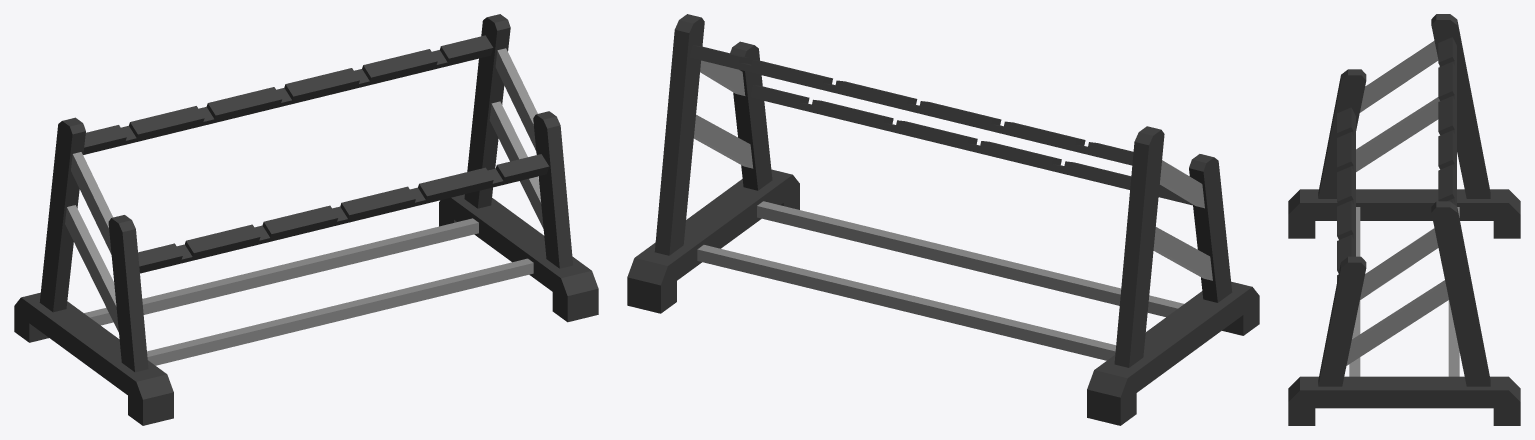
The model's file is barbell_stand_1.glb.
3 views of the same model, side by side, from view 1: azimuth 30°, elevation 25°; view 2: azimuth 150°, elevation 25°; view 3: azimuth 270°, elevation 25° (orthographic). The views are drawn at different scales.
Parts seen in each view (by area): view 1: Barbell_Stand_2; view 2: Barbell_Stand_2; view 3: Barbell_Stand_2.
Part boxes in pixels (<box>): Barbell_Stand_2: <box>14,14,598,425</box>; Barbell_Stand_2: <box>627,14,1259,425</box>; Barbell_Stand_2: <box>1288,14,1520,425</box>.
Bounding box in the file's own units: 1.94 × 0.9666 × 0.9485.
Materials: 1 (1 with a texture image).
